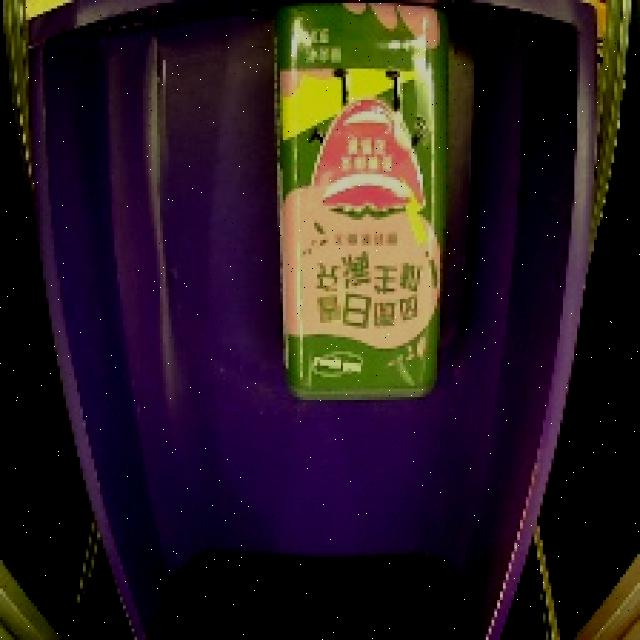metal: (263, 0, 460, 413)
